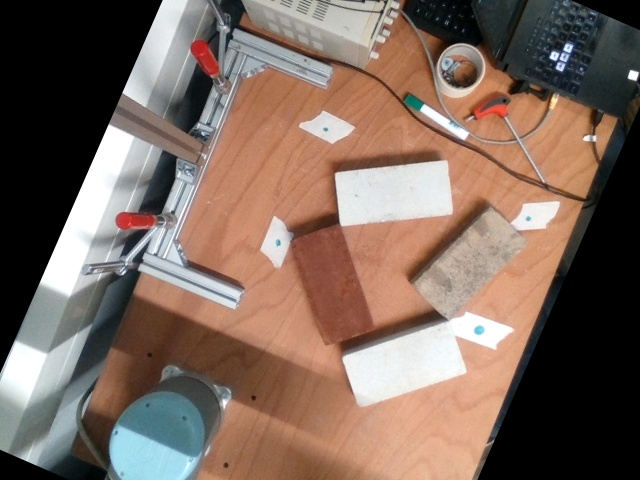brick: (415, 206, 532, 322), (343, 322, 465, 406), (290, 226, 374, 344), (335, 161, 453, 226)
